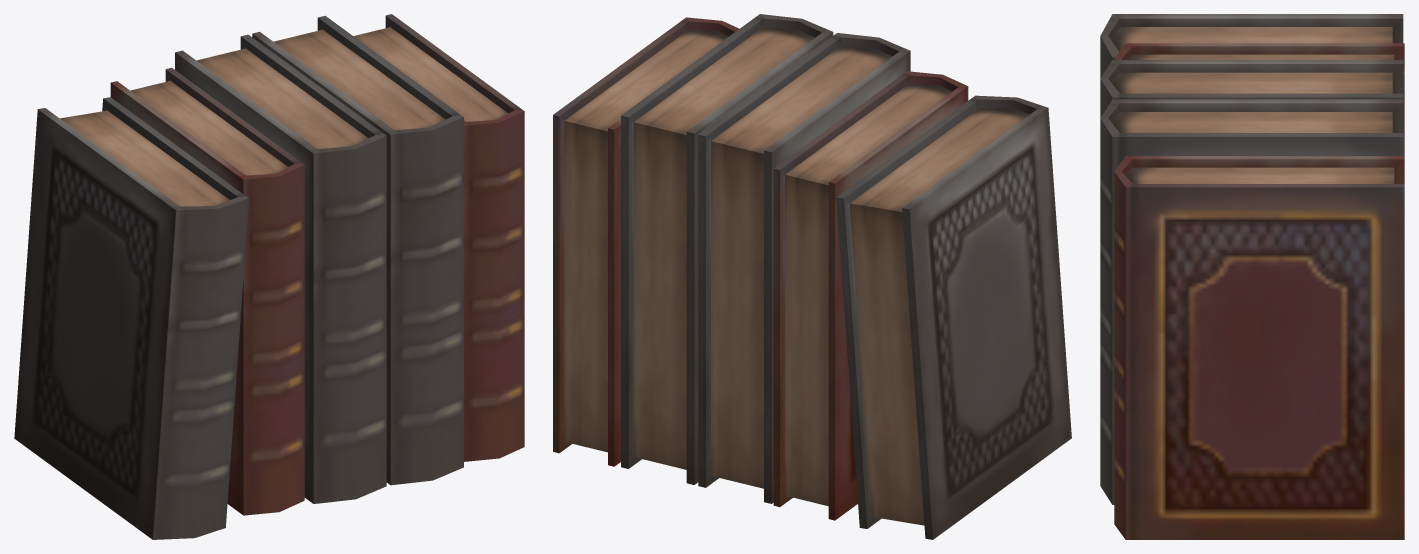
The model's file is book_010.fbx.
The picture shows the model from 3 angles, left to right: view 1: azimuth 30°, elevation 25°; view 2: azimuth 150°, elevation 25°; view 3: azimuth 270°, elevation 25°; orthographic projection. The views are drawn at different scales.
Visible parts, largest first — view 1: books_010; view 2: books_010; view 3: books_010.
Boxes of the visible parts, x1,y1,x2,y2 form: books_010: (14, 14, 524, 539); books_010: (553, 14, 1071, 539); books_010: (1100, 14, 1404, 539).
Size of the model in its own units: 27.79 by 24.78 by 18.43.
